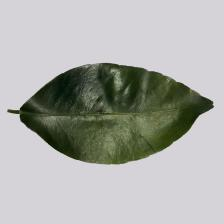healthy: (29, 74, 179, 170)
